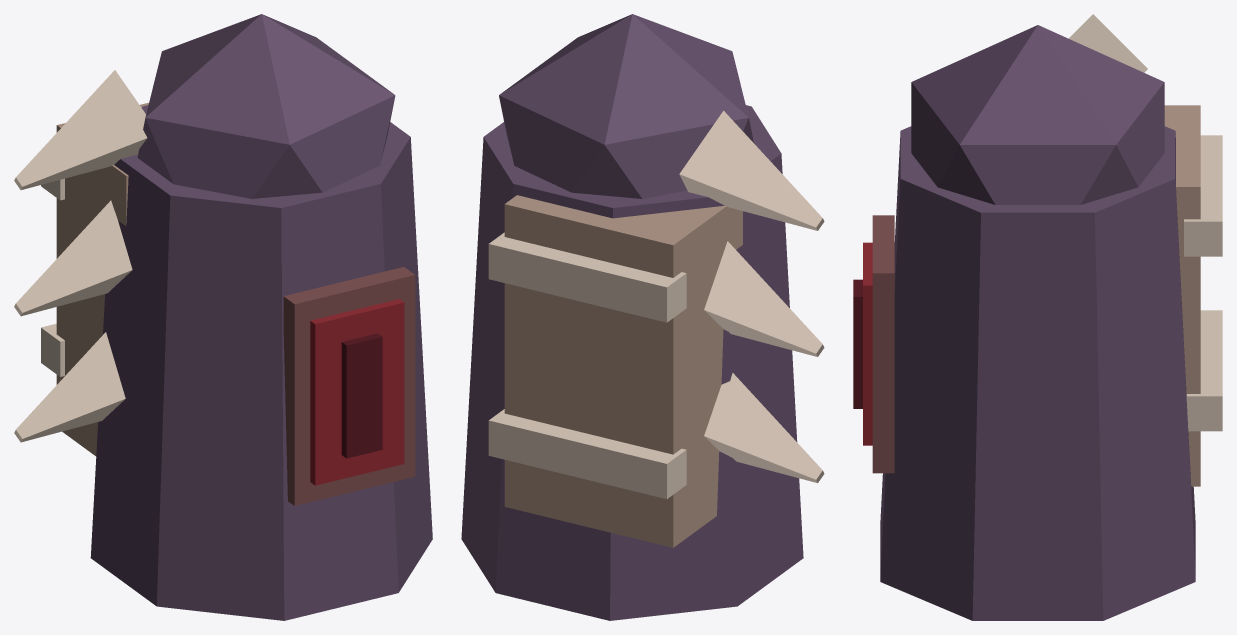
The model's file is inf_v2_brute_lower_arm_r.fbx.
3 renders of one model, left to right at view 1: azimuth 30°, elevation 25°; view 2: azimuth 150°, elevation 25°; view 3: azimuth 270°, elevation 25°, orthographic.
Parts seen in each view (by area): view 1: inf_v2_brute_lower_arm_r; view 2: inf_v2_brute_lower_arm_r; view 3: inf_v2_brute_lower_arm_r.
Part boxes in pixels (box(x1,y1,x2,y2)): inf_v2_brute_lower_arm_r: box(14, 14, 432, 620); inf_v2_brute_lower_arm_r: box(461, 14, 824, 620); inf_v2_brute_lower_arm_r: box(853, 14, 1222, 620).
Size of the model in its own units: 148 by 212 by 134.
